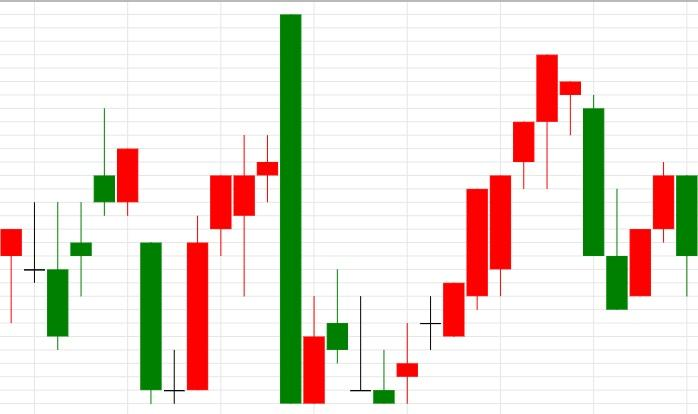bearish_engulfing_fall: (163, 13, 302, 404)
hanging_man_fall: (372, 54, 582, 404)
inverse_hammer_rise: (326, 270, 395, 404)
morning_star_rise: (94, 108, 209, 405)
shooting_star_fall: (46, 109, 116, 349)
